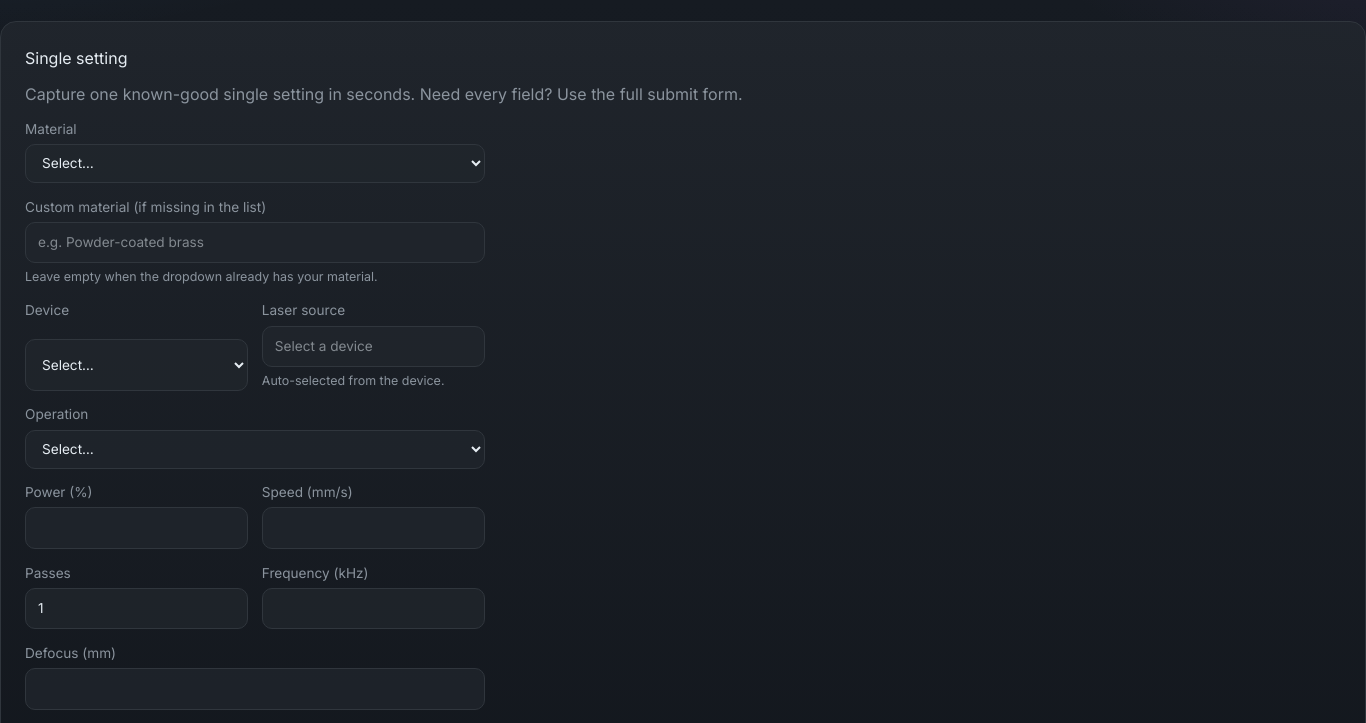
Test case: QuickSubmitPage › auto-generates a title from the selections
The width and height of the screenshot is (1366, 723).
Select "Birch Plywood (3mm)" in the dropdown labelled "Material" at (255, 163), box [25,144,485,183]
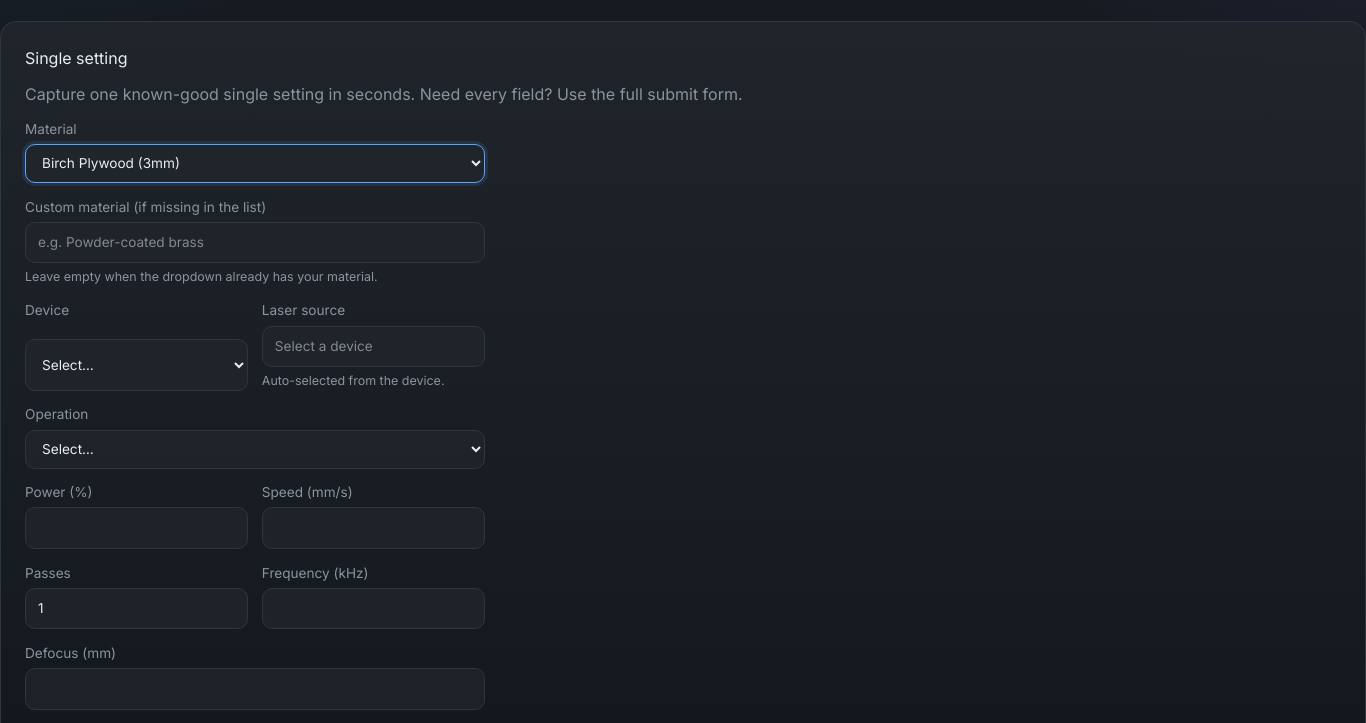
Select "F2" in the dropdown labelled "Device" at (137, 365), box [25,339,248,391]
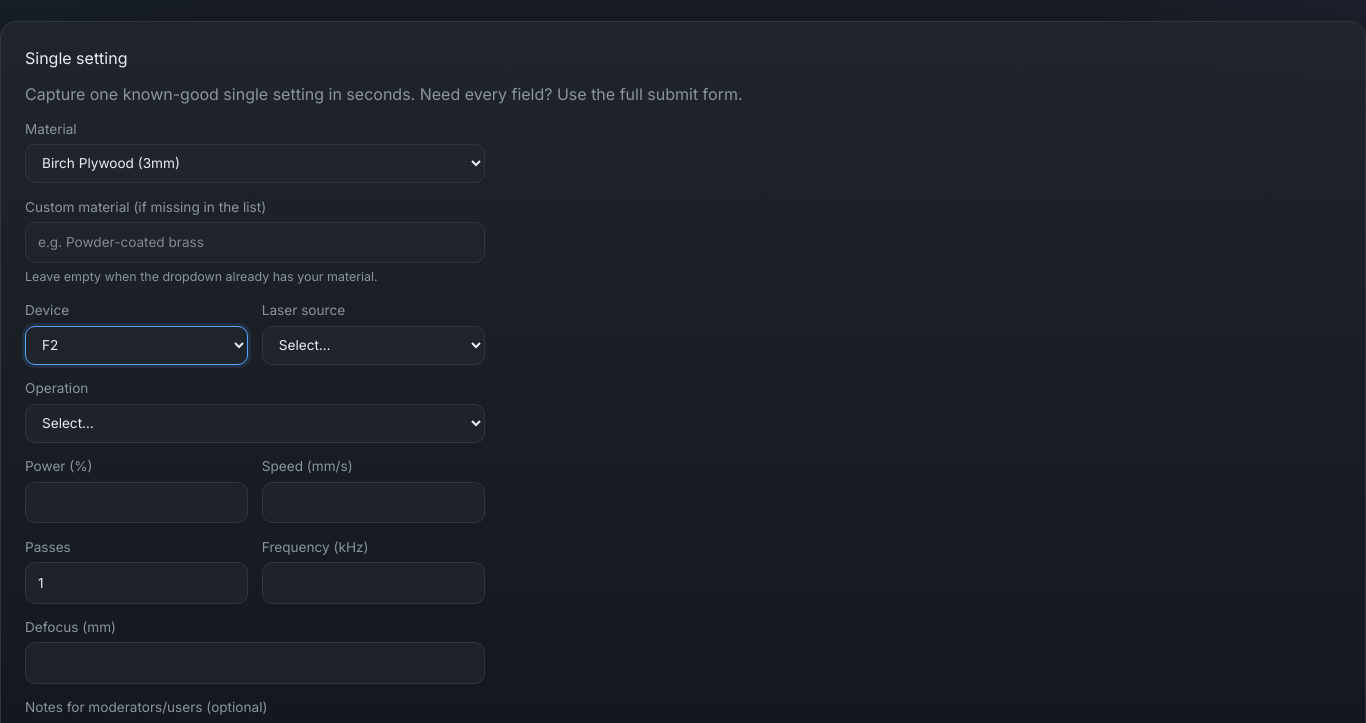
Select "Blue Diode" in the dropdown labelled "Laser source" at (373, 345), box [262,326,485,365]
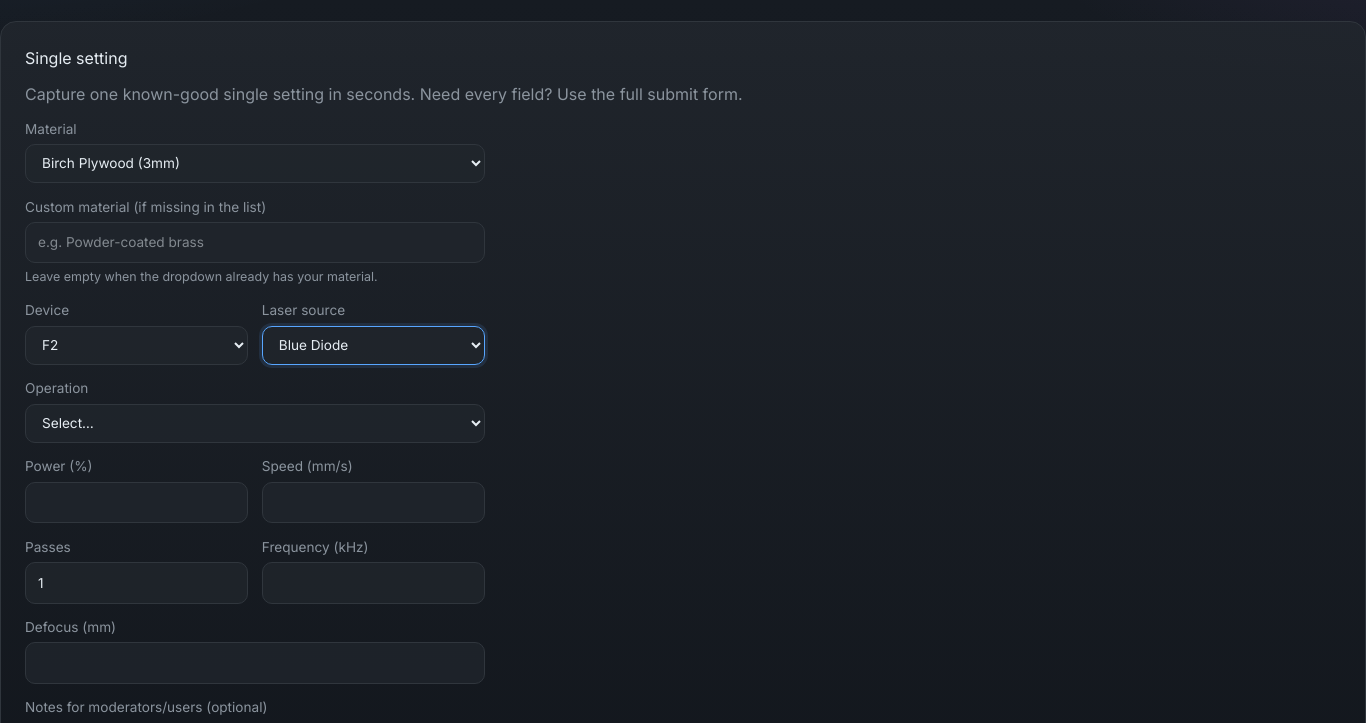
Select "Cut" in the dropdown labelled "Operation" at (255, 423), box [25,404,485,443]
(page scrolled)
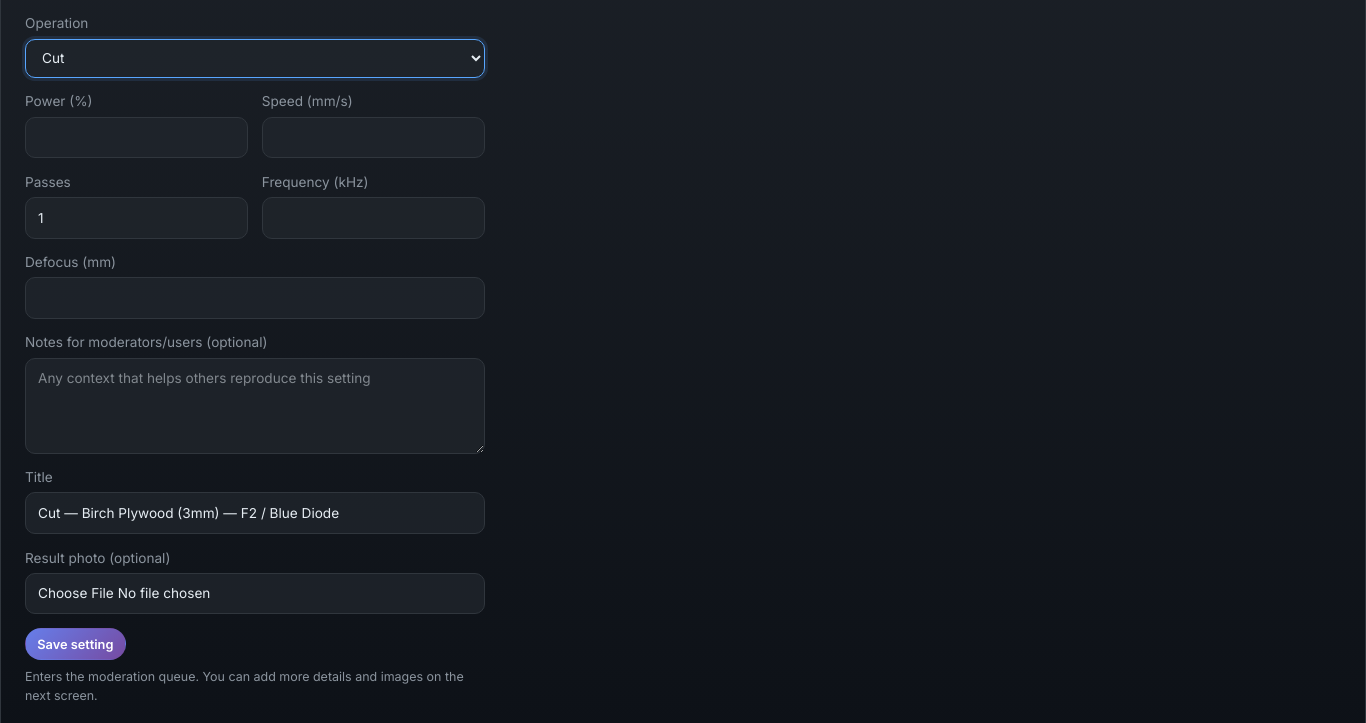
Expected: the field labelled "Title" holds "Cut — Birch Plywood (3mm) — F2 / Blue Diode", [25,492,485,534]
